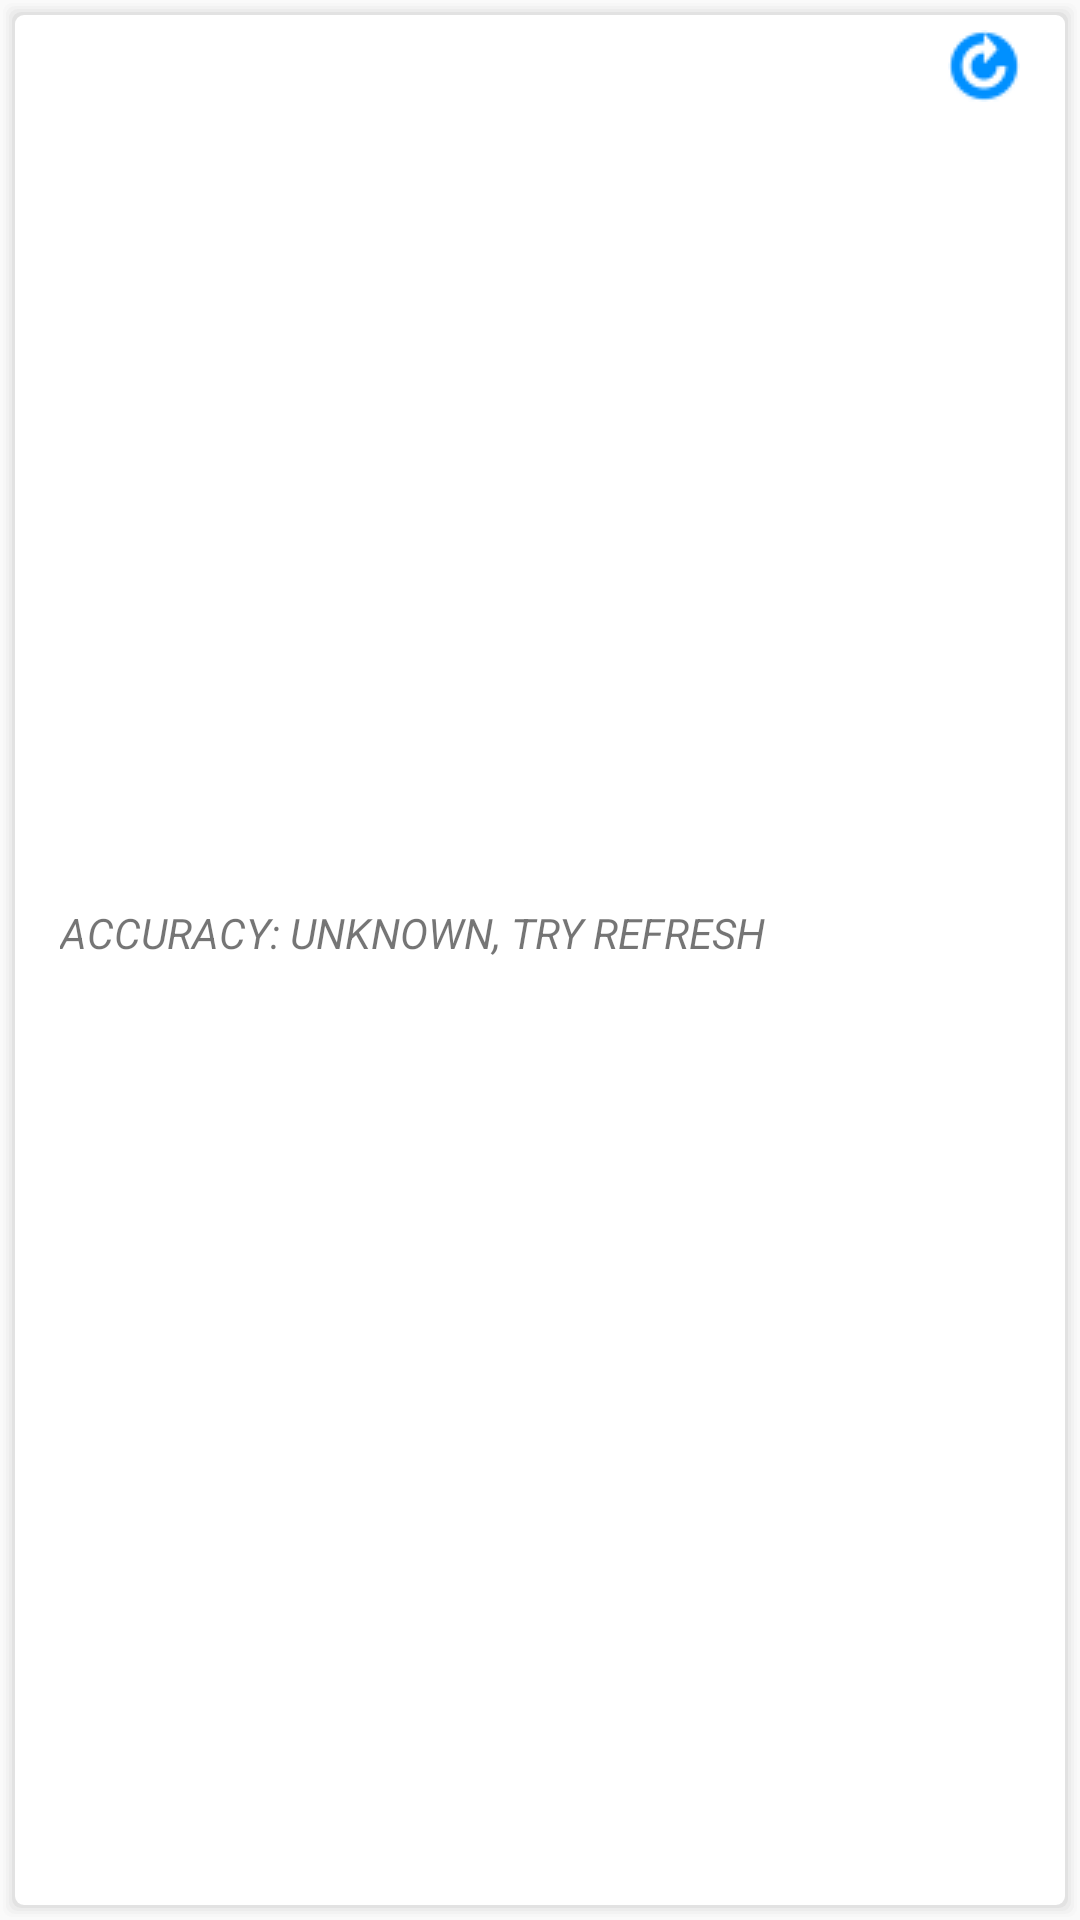

Screen size 1080 x 1920. Icon name, then its box in pixels as bbox=(x1, y1, x2, y2):
vid replay: bbox=(950, 32, 1018, 100)
